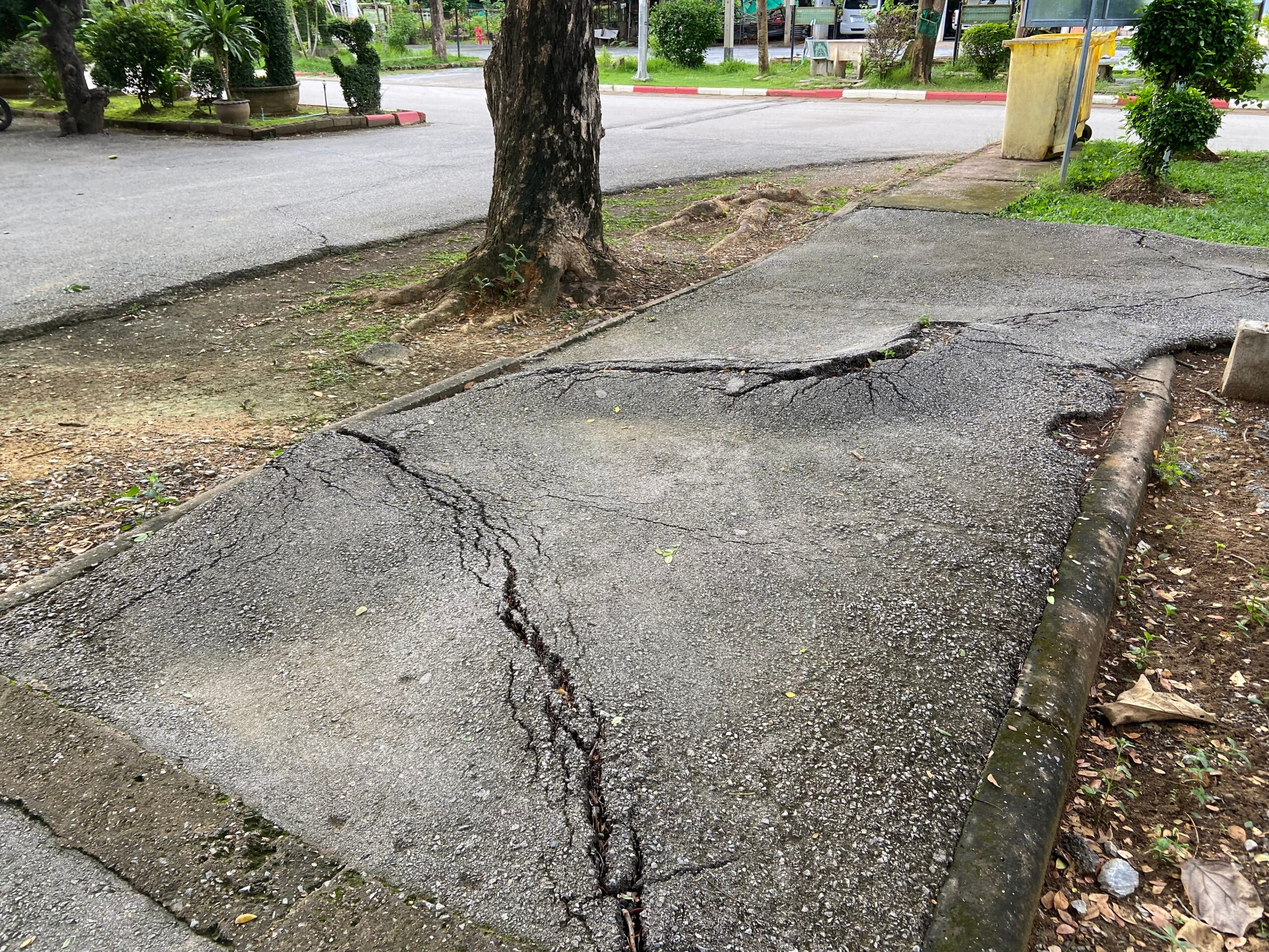Tree: (486, 0, 652, 323)
